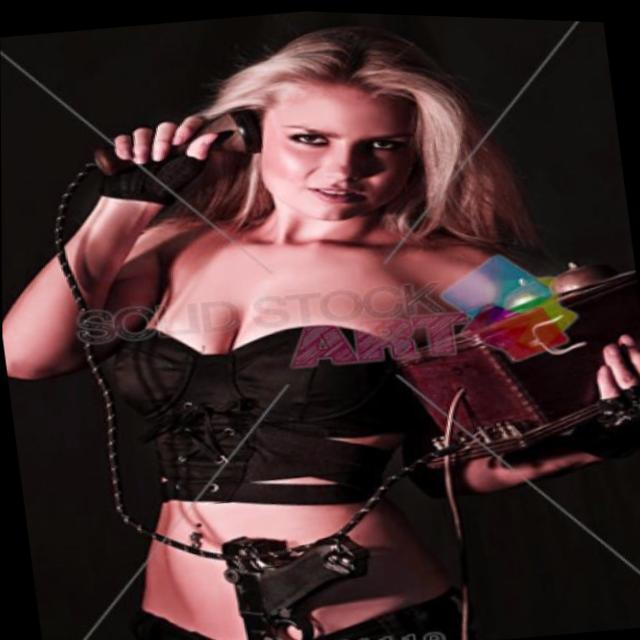weapon: (210, 509, 387, 640)
